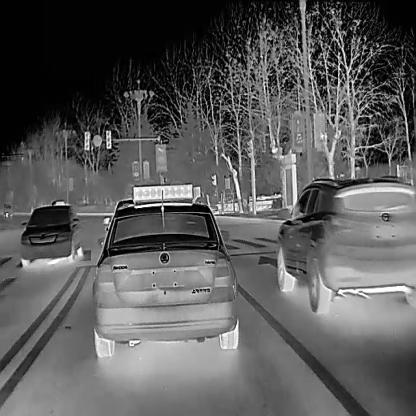car: (91, 182, 238, 355), (276, 174, 416, 314), (20, 204, 81, 267), (2, 201, 12, 217)
